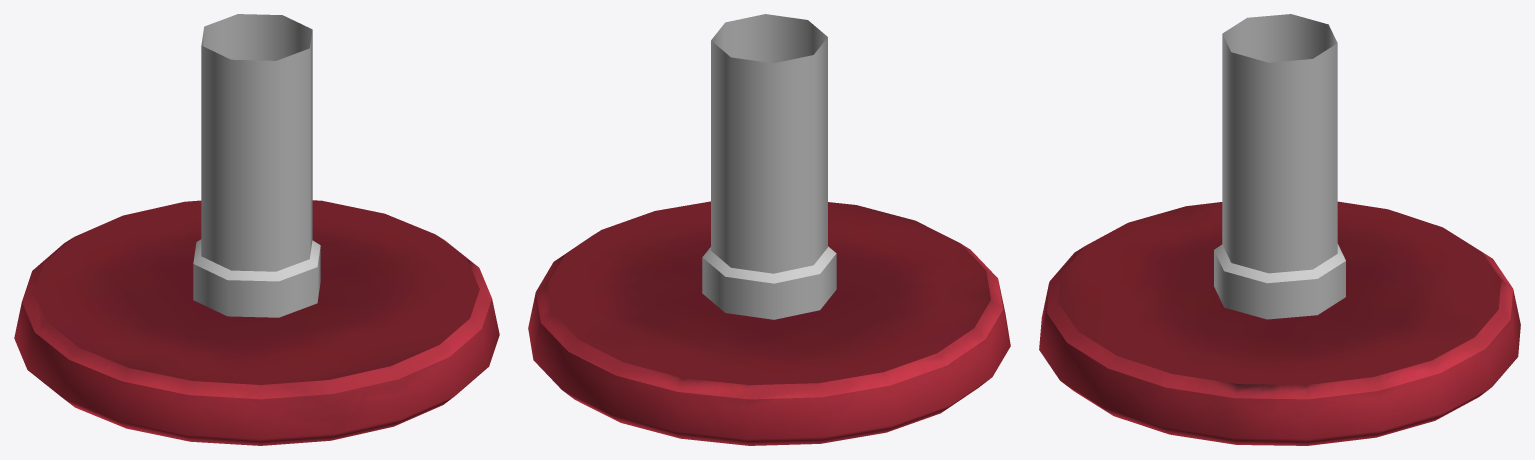
File: ButtonTop.fbx
3 views of the same model, side by side, from view 1: azimuth 30°, elevation 25°; view 2: azimuth 150°, elevation 25°; view 3: azimuth 270°, elevation 25° (orthographic).
Visible parts, largest first — view 1: Button_Top_Red, stem; view 2: Button_Top_Red, stem; view 3: Button_Top_Red, stem.
Part boxes in pixels (x1=…): Button_Top_Red: x1=14, y1=200, x2=499, y2=445; stem: x1=193, y1=14, x2=320, y2=317; Button_Top_Red: x1=528, y1=201, x2=1010, y2=445; stem: x1=702, y1=14, x2=836, y2=319; Button_Top_Red: x1=1039, y1=201, x2=1520, y2=445; stem: x1=1214, y1=14, x2=1345, y2=319.
Size of the model in its own units: 0.0798 by 0.0587 by 0.0798.
